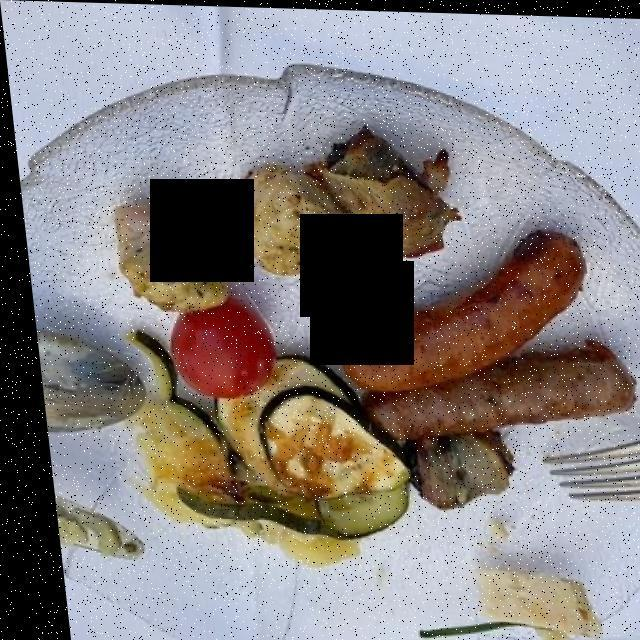bacon: (319, 113, 506, 502)
pork: (81, 167, 340, 301)
sausage: (342, 224, 629, 445)
tomato: (164, 294, 275, 402)
vegetables-baked: (134, 353, 399, 554)
